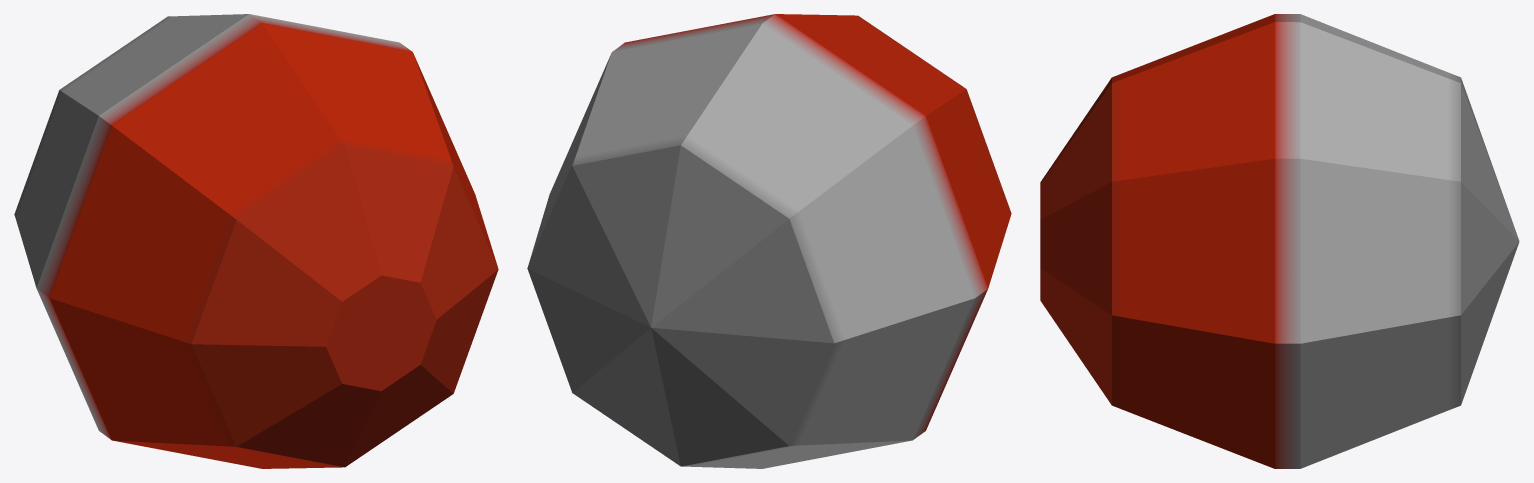
The model's file is bobber.glb.
3 renders of one model, left to right at view 1: azimuth 30°, elevation 25°; view 2: azimuth 150°, elevation 25°; view 3: azimuth 270°, elevation 25°, orthographic.
Parts seen in each view (by area): view 1: Sphere; view 2: Sphere; view 3: Sphere.
Boxes of the visible parts, x1=… form: Sphere: x1=14, y1=14, x2=498, y2=468; Sphere: x1=527, y1=14, x2=1011, y2=468; Sphere: x1=1040, y1=14, x2=1519, y2=468.
Bounding box in the file's own units: 0.1597 × 0.1597 × 0.158.
